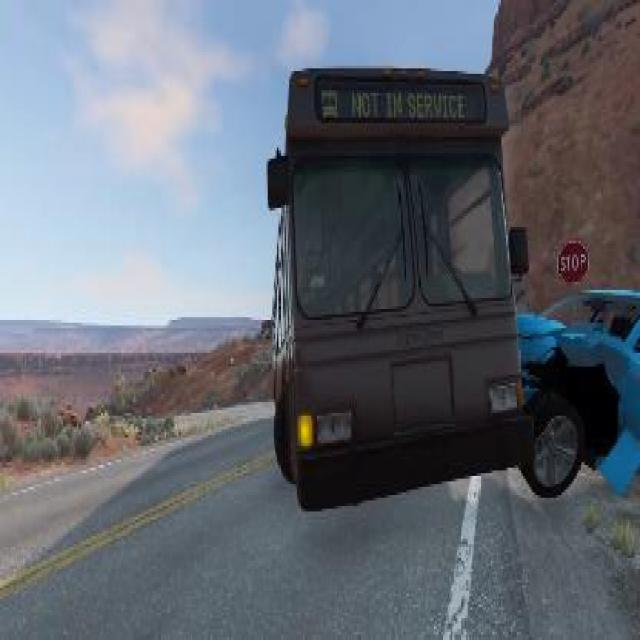accident: (251, 35, 640, 517)
